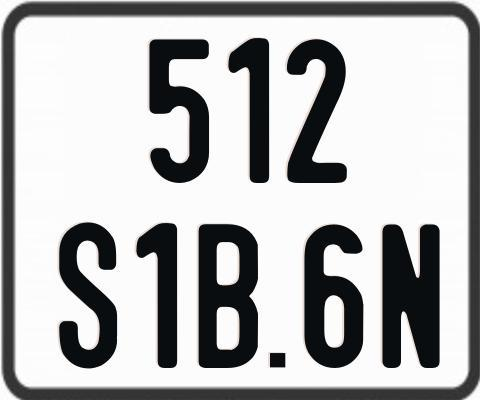1: (226, 35, 272, 183), (134, 221, 180, 369)
2: (286, 39, 350, 183)
5: (149, 39, 215, 187)
6: (304, 221, 364, 367)
B: (199, 221, 264, 370)
N: (381, 222, 440, 369)
S: (58, 220, 122, 366)
